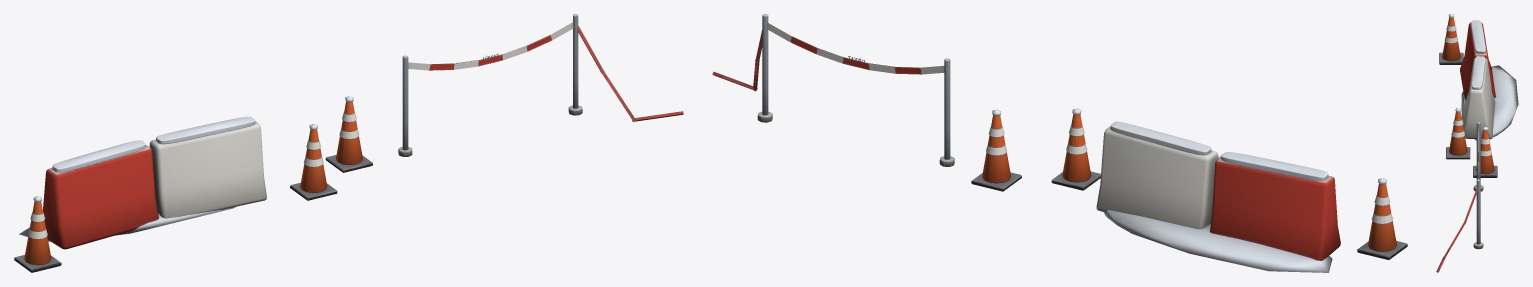
Rendered from barrier_set.glb.
3 renders of one model, left to right at view 1: azimuth 30°, elevation 25°; view 2: azimuth 150°, elevation 25°; view 3: azimuth 270°, elevation 25°, orthographic. The views are drawn at different scales.
Visible parts, largest first — view 1: barrier_set; view 2: barrier_set; view 3: barrier_set.
Part boxes in pixels (x1,y1,x2,y2): barrier_set: [14, 14, 683, 272]; barrier_set: [712, 14, 1407, 272]; barrier_set: [1436, 14, 1518, 272].
Bounding box in the file's own units: 7.65 × 1.1 × 1.21.
1 material, 1 textured.
